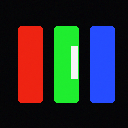4 line_v: (71, 46, 77, 78)
